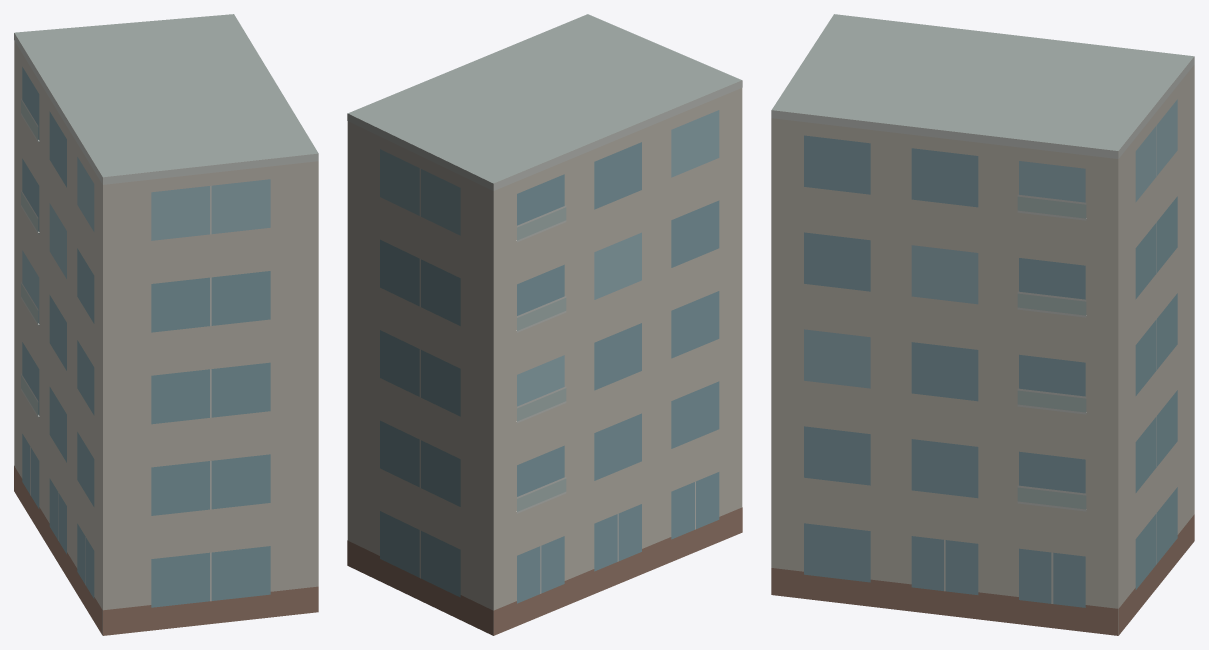
The model's file is survey-upis-32873689.glb.
The picture shows the model from 3 angles, left to right: view 1: azimuth 30°, elevation 25°; view 2: azimuth 150°, elevation 25°; view 3: azimuth 270°, elevation 25°; orthographic projection. The views are drawn at different scales.
Visible parts, largest first — view 1: survey-upis-32873689.tmp; view 2: survey-upis-32873689.tmp; view 3: survey-upis-32873689.tmp.
Boxes of the visible parts, x1,y1,x2,y2 form: survey-upis-32873689.tmp: (14, 14, 318, 635); survey-upis-32873689.tmp: (347, 14, 742, 635); survey-upis-32873689.tmp: (771, 14, 1194, 635).
Bounding box in the file's own units: 8.92 × 14.7 × 11.64.
